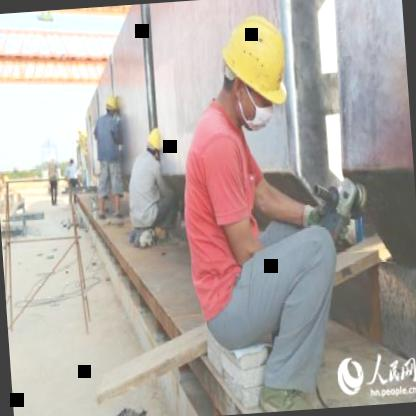helmet: (204, 0, 300, 138), (142, 124, 165, 159), (102, 93, 122, 120)
